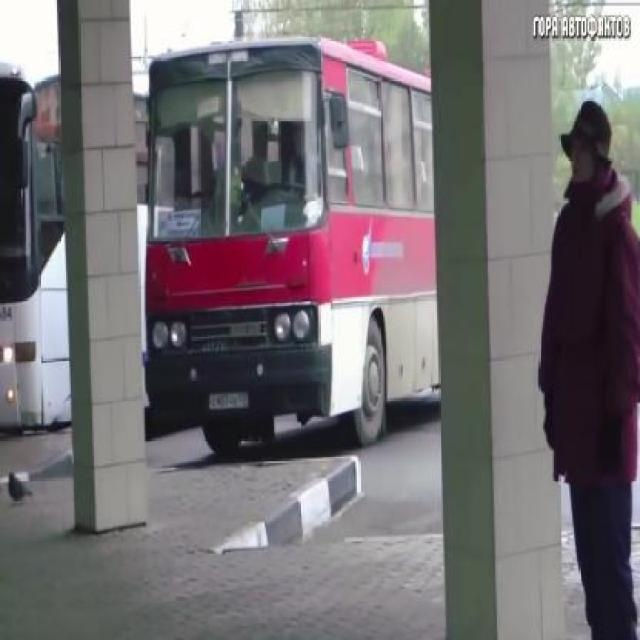Bus: (143, 28, 446, 472)
